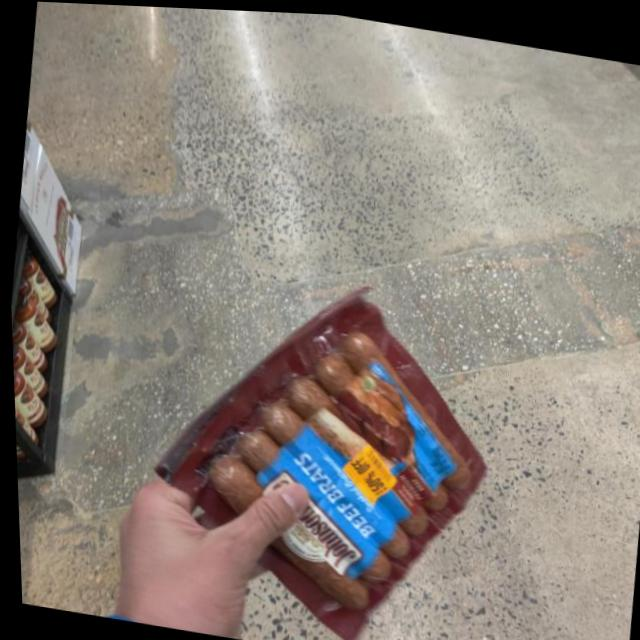Meat: (106, 246, 534, 640)
